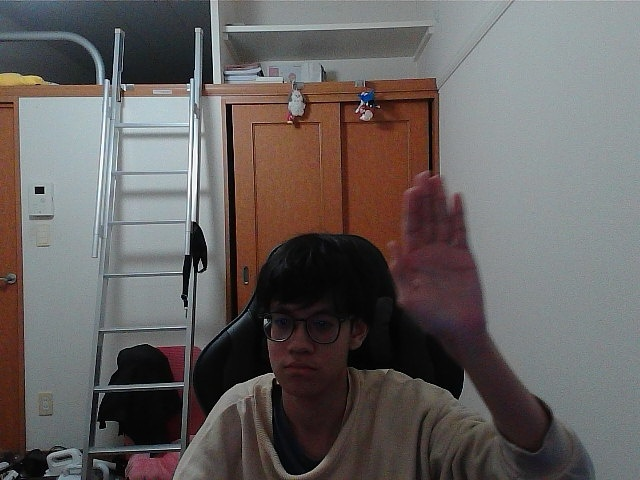open_palm: (393, 182, 462, 320)
